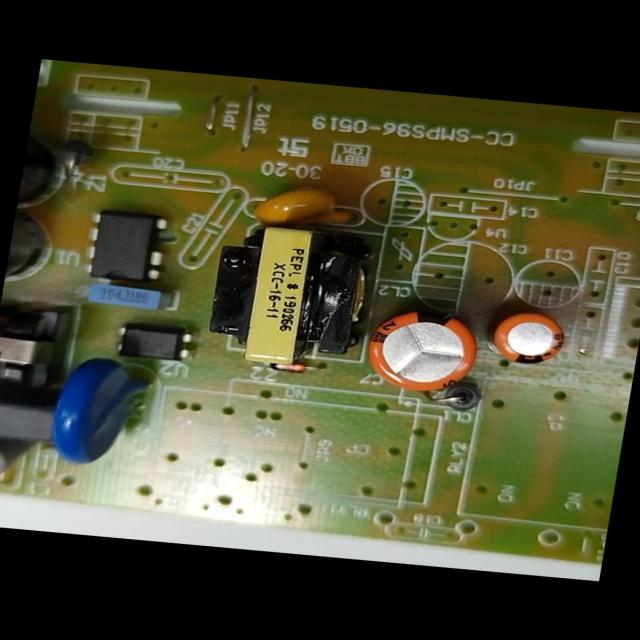Cap1: (349, 300, 487, 400)
Cap2: (481, 299, 578, 372)
Cap3: (2, 206, 59, 298)
Cap4: (15, 126, 72, 219)
MOSFET: (75, 203, 176, 290)
Mov: (42, 349, 167, 474)
Resistor: (0, 427, 37, 488)
Transformer: (196, 214, 387, 374), (0, 292, 83, 403)
